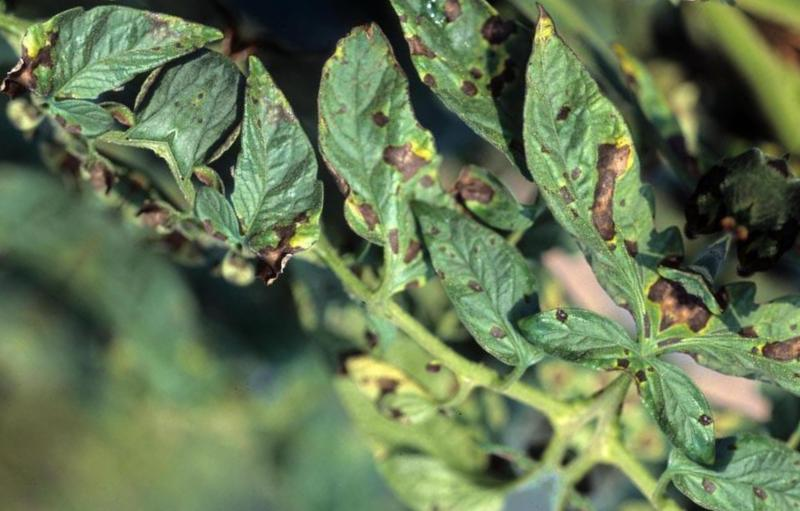Tomato Early blight leaf: (430, 17, 747, 319), (262, 28, 517, 284), (362, 175, 588, 381), (302, 0, 603, 151)
